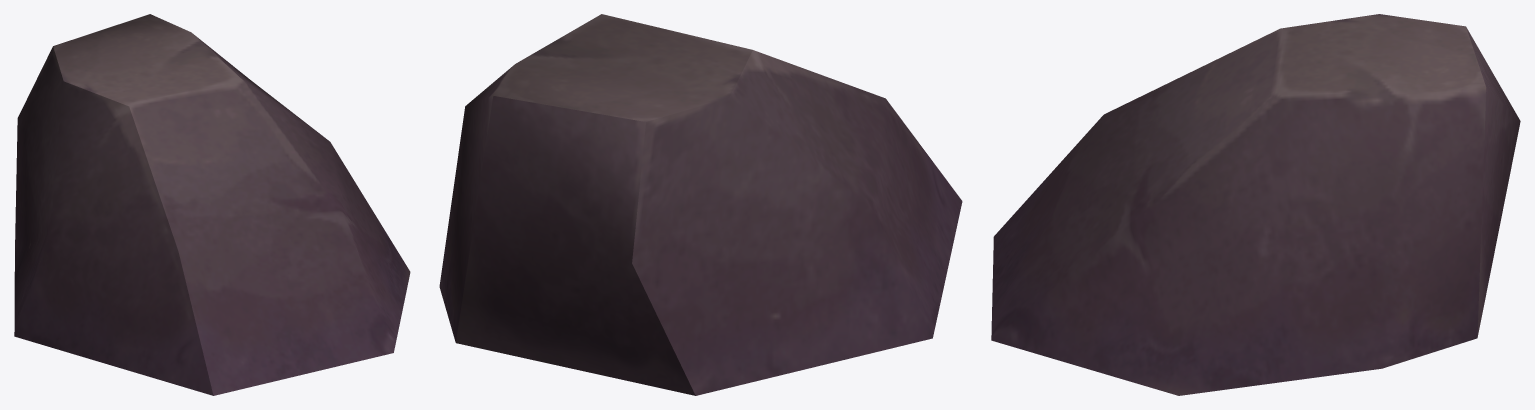
Rendered from Boss_02.FBX.
The picture shows the model from 3 angles, left to right: view 1: azimuth 30°, elevation 25°; view 2: azimuth 150°, elevation 25°; view 3: azimuth 270°, elevation 25°; orthographic projection. The views are drawn at different scales.
Parts seen in each view (by area): view 1: er; view 2: er; view 3: er.
Part boxes in pixels (x1,y1,x2,y2): er: (14, 14, 410, 395); er: (439, 14, 962, 395); er: (991, 14, 1520, 395).
Bounding box in the file's own units: 2.13 × 1.1 × 2.26.
